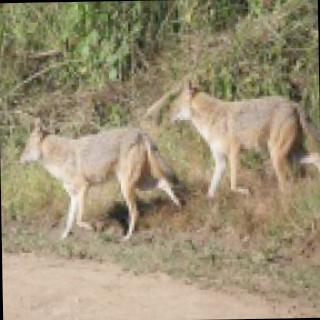fox: (18, 112, 184, 246), (166, 74, 313, 198)
